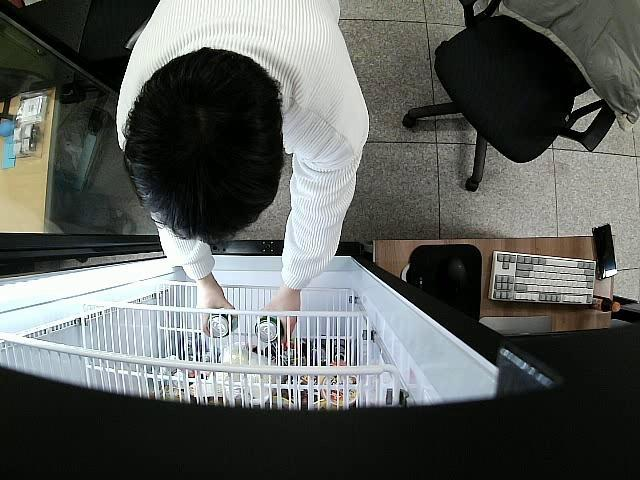12_chilsungCider: (205, 308, 239, 338), (255, 314, 284, 344)
